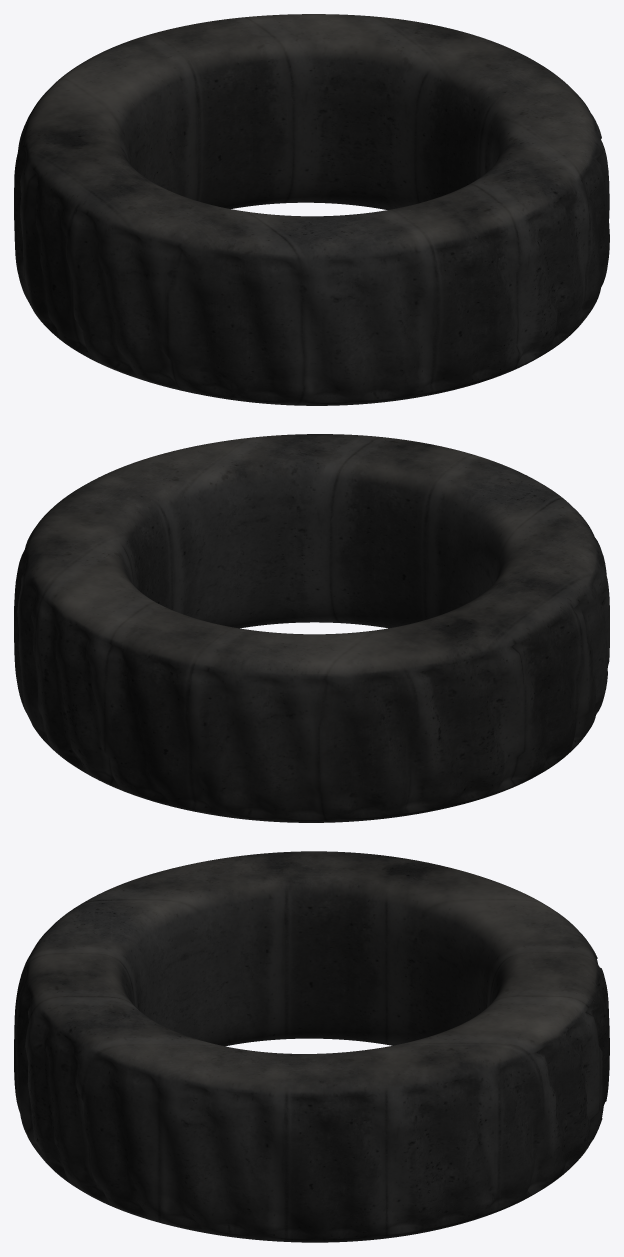
Rendered from Tyre.fbx.
3 views of the same model, one above another, from view 1: azimuth 30°, elevation 25°; view 2: azimuth 150°, elevation 25°; view 3: azimuth 270°, elevation 25° (orthographic).
Visible parts, largest first — view 1: Tyre_Mesh; view 2: Tyre_Mesh; view 3: Tyre_Mesh.
Part boxes in pixels (x1,y1,x2,y2): Tyre_Mesh: [14, 14, 609, 405]; Tyre_Mesh: [14, 434, 609, 822]; Tyre_Mesh: [14, 851, 609, 1242].
Bounding box in the file's own units: 0.6605 × 0.2036 × 0.6618.
